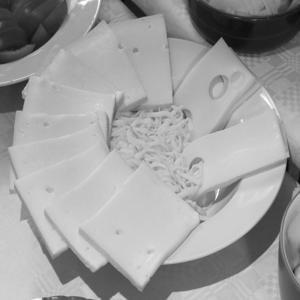cheese: (13, 22, 279, 283)
